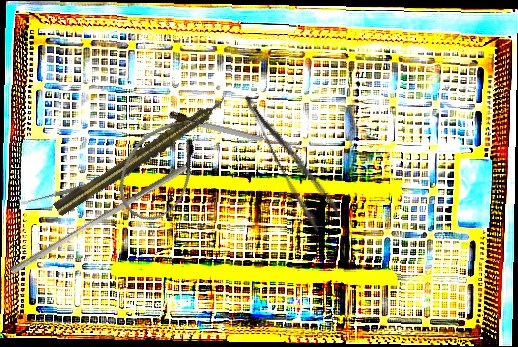Cannula: (105, 99, 218, 232)
Dressing Forceps: (240, 80, 345, 235)
Handpiece: (52, 92, 231, 219)
Pusher: (9, 156, 189, 281)
Surgical Spoon: (174, 114, 301, 153), (20, 170, 130, 207)
